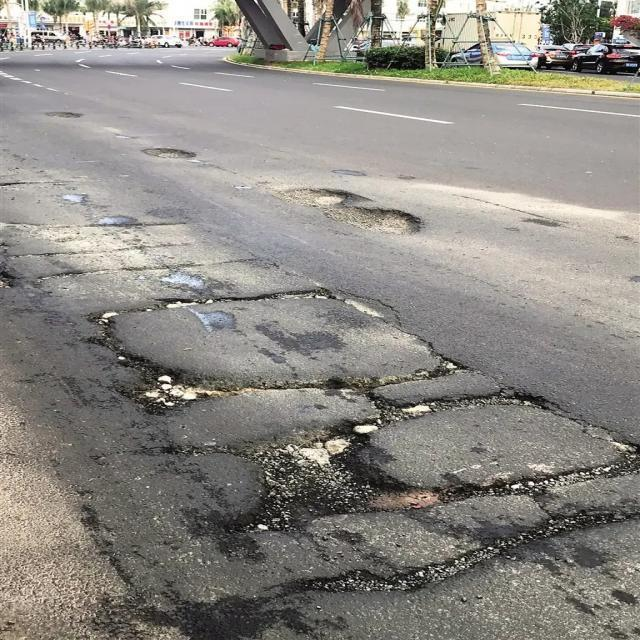pothole: (186, 417, 634, 527), (207, 530, 526, 598), (79, 311, 247, 412), (302, 353, 552, 415), (273, 188, 419, 234), (189, 289, 354, 306), (139, 148, 193, 159), (44, 111, 80, 121)
